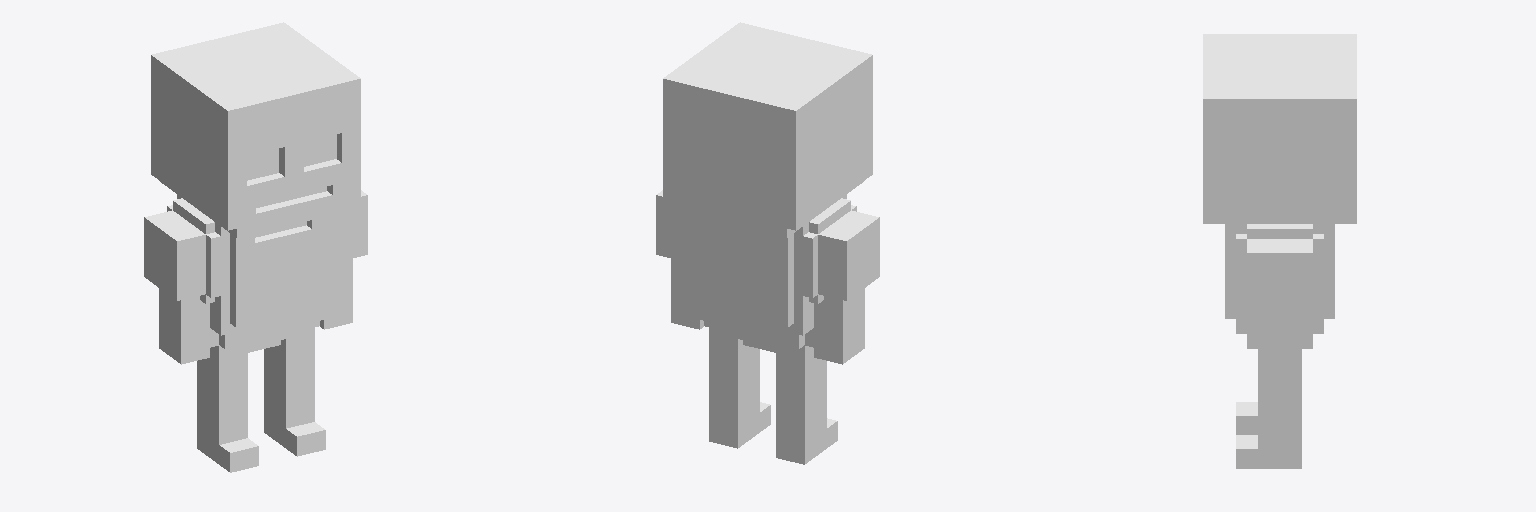
Rendered from Enemy_2.obj.
3 views of the same model, side by side, from view 1: azimuth 30°, elevation 25°; view 2: azimuth 150°, elevation 25°; view 3: azimuth 270°, elevation 25° (orthographic).
Visible parts, largest first — view 1: object 1; view 2: object 1; view 3: object 1.
Part boxes in pixels (x1,y1,x2,y2): object 1: (144, 22, 367, 472); object 1: (656, 22, 879, 464); object 1: (1203, 34, 1356, 468).
Bounding box in the file's own units: 2 × 3.8 × 1.4.